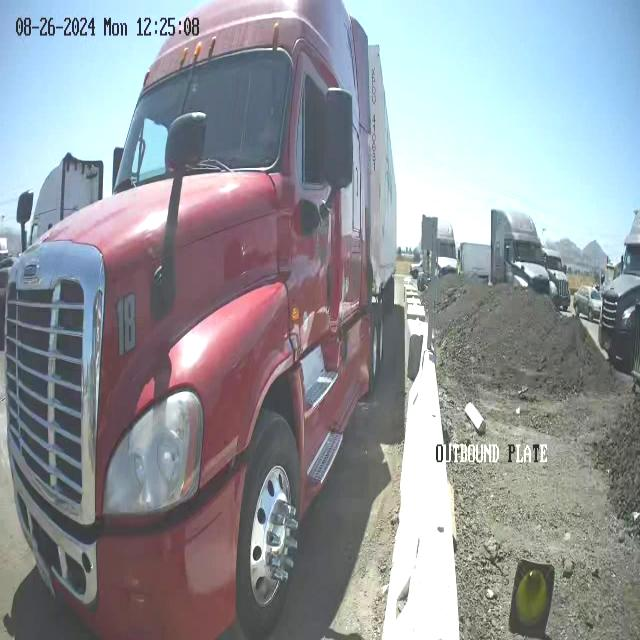CONTAINER: (329, 1, 395, 313)
